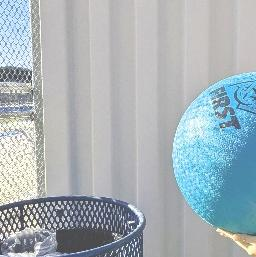algae: (176, 67, 256, 234)
